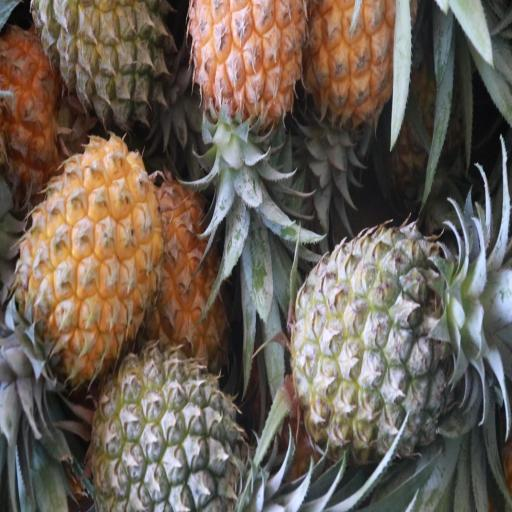------------------------------: (41, 0, 173, 126)
Pineapple - v8 v1: (13, 137, 160, 382), (149, 184, 238, 370), (186, 0, 304, 125), (306, 0, 414, 129)
